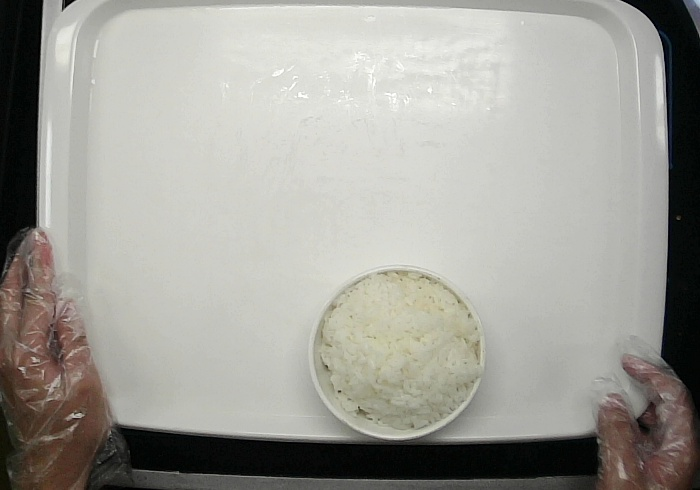HZYJPL-Fan_Wan: (309, 264, 486, 440)
